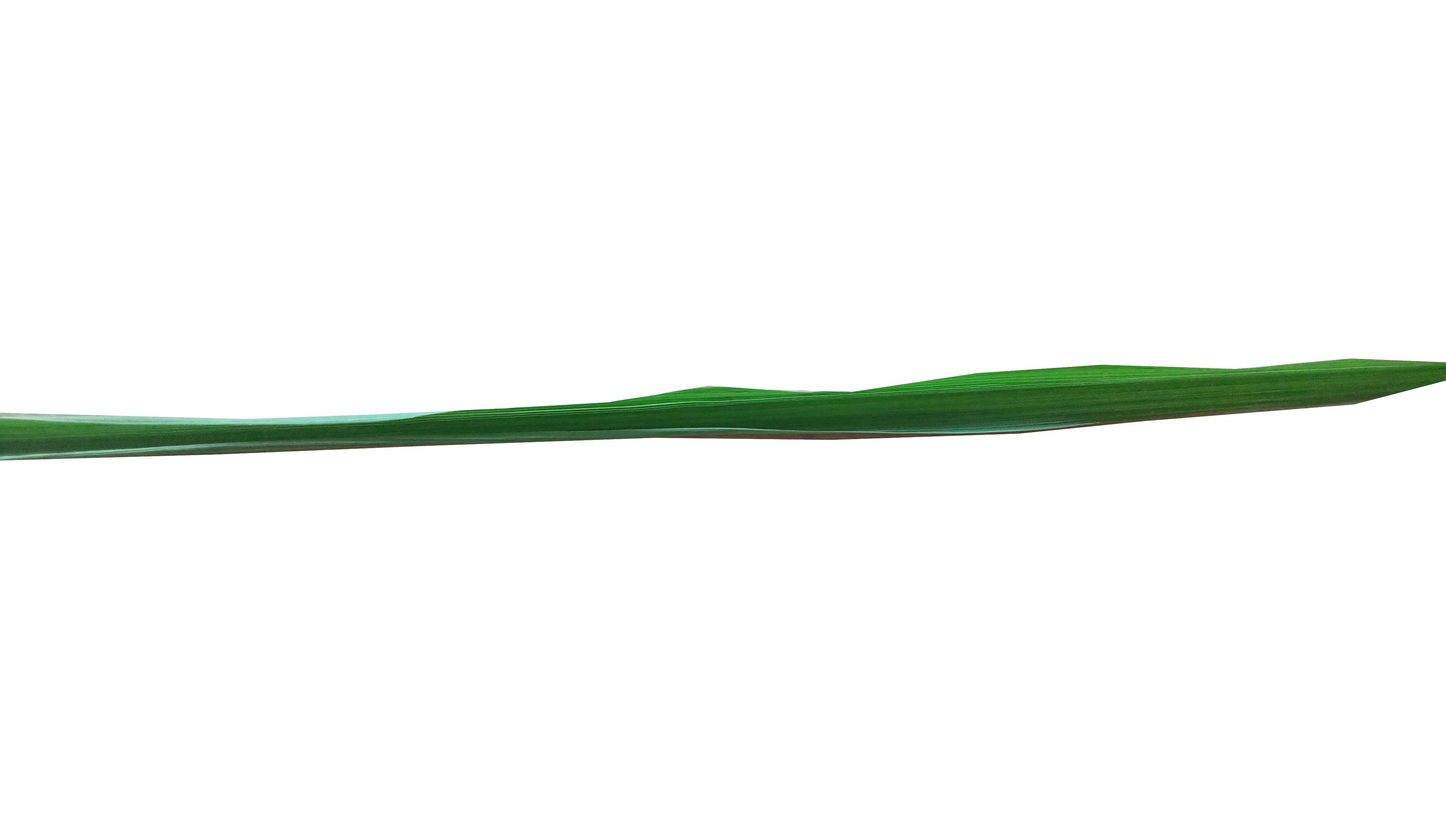Healthy: (0, 359, 1446, 460)
